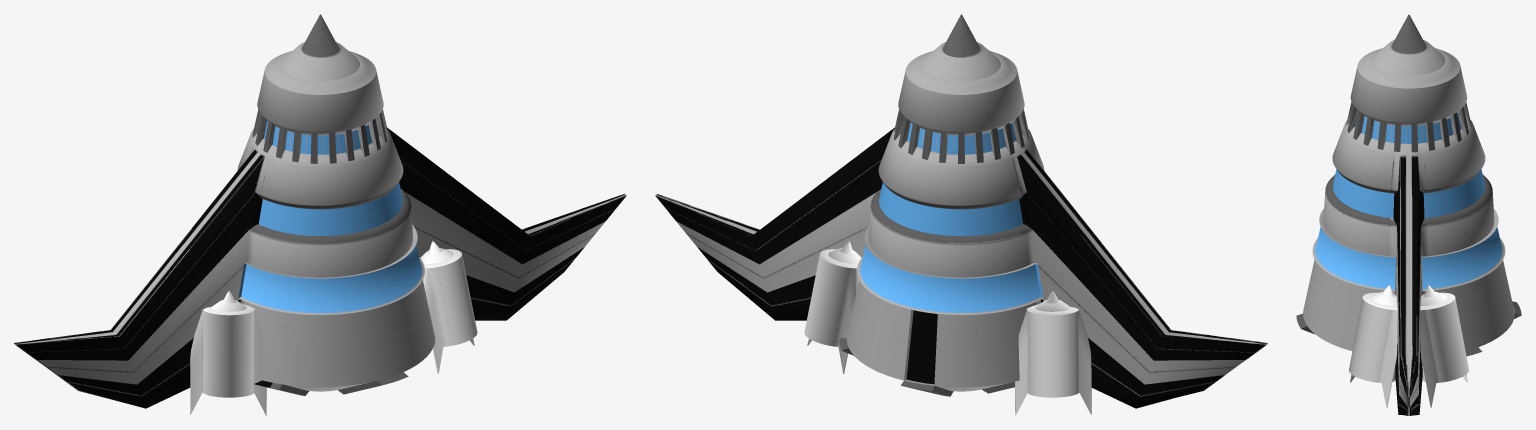
File: space_capsule.obj
3 renders of one model, left to right at view 1: azimuth 30°, elevation 25°; view 2: azimuth 150°, elevation 25°; view 3: azimuth 270°, elevation 25°, orthographic. The views are drawn at different scales.
Visible parts, largest first — view 1: Cone, Tube0, Tube1; view 2: Cone, Tube3, Tube2; view 3: Cone, Tube2, Tube1.
Boxes of the visible parts, x1,y1,x2,y2 form: Cone: [14, 14, 626, 408]; Tube0: [190, 290, 266, 415]; Tube1: [420, 240, 477, 373]; Cone: [655, 14, 1267, 408]; Tube3: [1015, 290, 1091, 415]; Tube2: [804, 240, 861, 373]; Cone: [1296, 14, 1521, 415]; Tube2: [1420, 285, 1468, 407]; Tube1: [1349, 285, 1397, 407].
Bounding box in the file's own units: 835 × 474 × 289.
